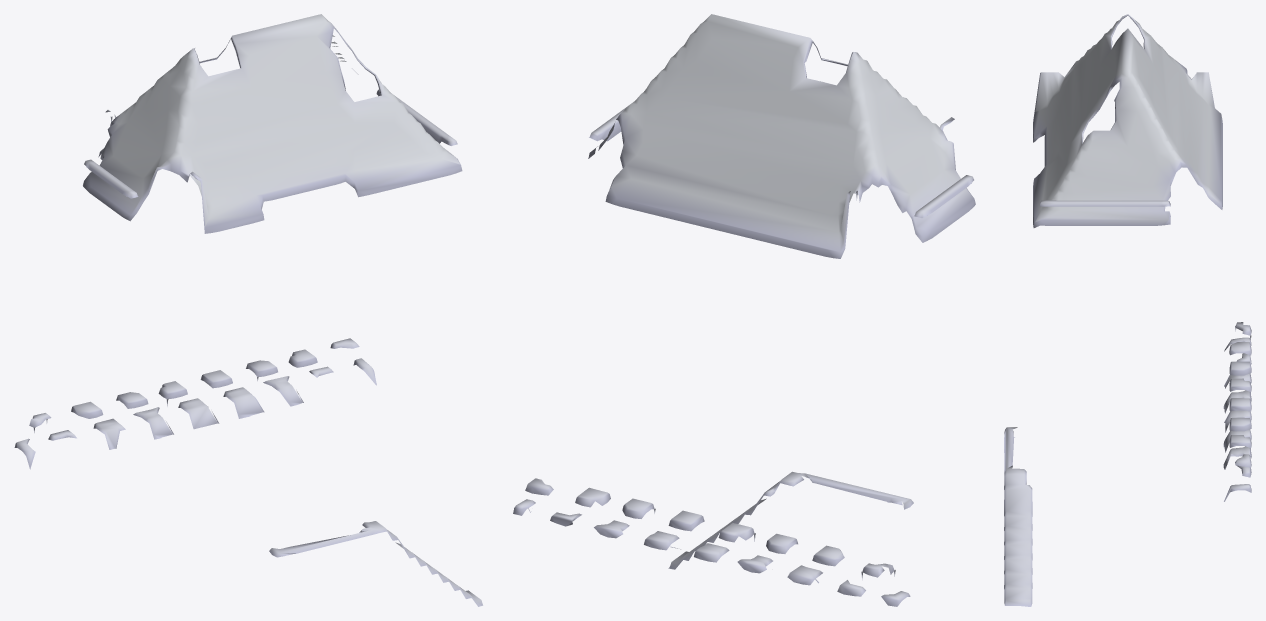
The model's file is keep.snow.glb.
3 renders of one model, left to right at view 1: azimuth 30°, elevation 25°; view 2: azimuth 150°, elevation 25°; view 3: azimuth 270°, elevation 25°, orthographic. The views are drawn at different scales.
Parts seen in each view (by area): view 1: snow, tier.2; view 2: snow, tier.2; view 3: snow, tier.2.
Part boxes in pixels (x1,y1,x2,y2): snow: [14, 14, 482, 606]; tier.2: [84, 89, 457, 198]; snow: [513, 14, 975, 606]; tier.2: [589, 105, 973, 217]; snow: [1004, 14, 1251, 606]; tier.2: [1040, 200, 1170, 206].
Bounding box in the file's own units: 8.04 × 12.42 × 5.58.
